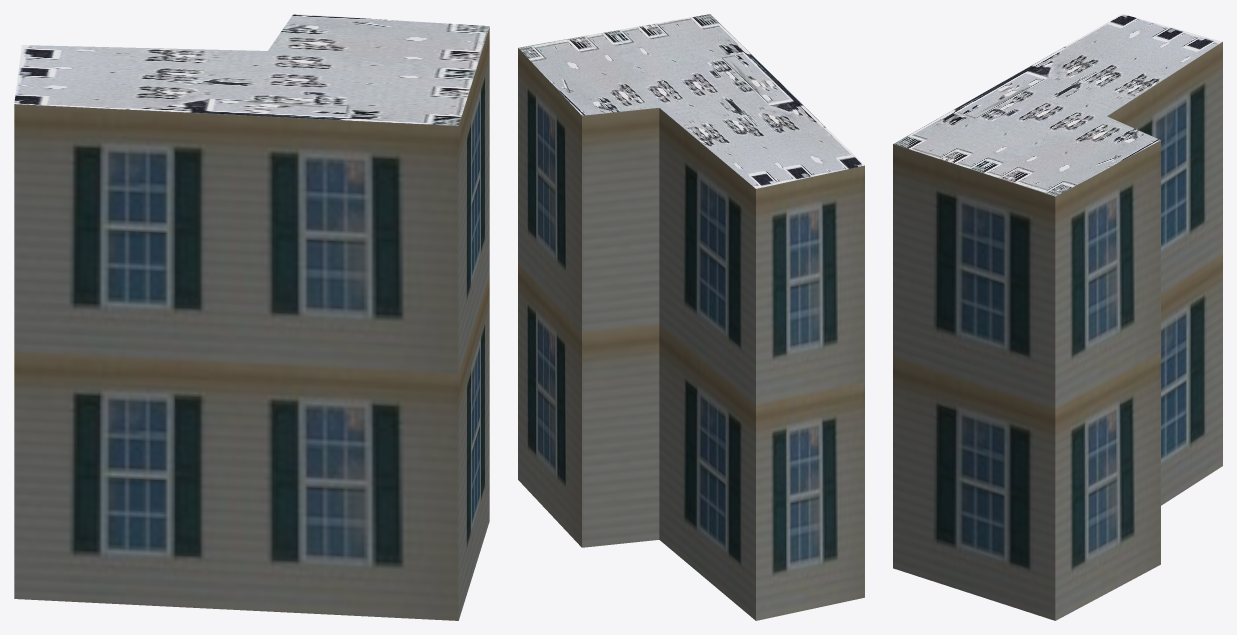
The model's file is ResTex__128.fbx.
3 views of the same model, side by side, from view 1: azimuth 30°, elevation 25°; view 2: azimuth 150°, elevation 25°; view 3: azimuth 270°, elevation 25° (orthographic). The views are drawn at different scales.
Visible parts, largest first — view 1: CityEngineMaterial_7_m, CityEngineMaterial_m; view 2: CityEngineMaterial_7_m, CityEngineMaterial_m; view 3: CityEngineMaterial_7_m, CityEngineMaterial_m.
Boxes of the visible parts, box(x1,y1,x2,y2) form: CityEngineMaterial_7_m: box(14, 27, 489, 620); CityEngineMaterial_m: box(14, 14, 489, 125); CityEngineMaterial_7_m: box(518, 48, 864, 620); CityEngineMaterial_m: box(518, 14, 864, 188); CityEngineMaterial_7_m: box(893, 42, 1222, 620); CityEngineMaterial_m: box(894, 14, 1222, 196).
Size of the model in its own units: 5.54 by 6 by 4.22.
2 materials, 2 textured.
